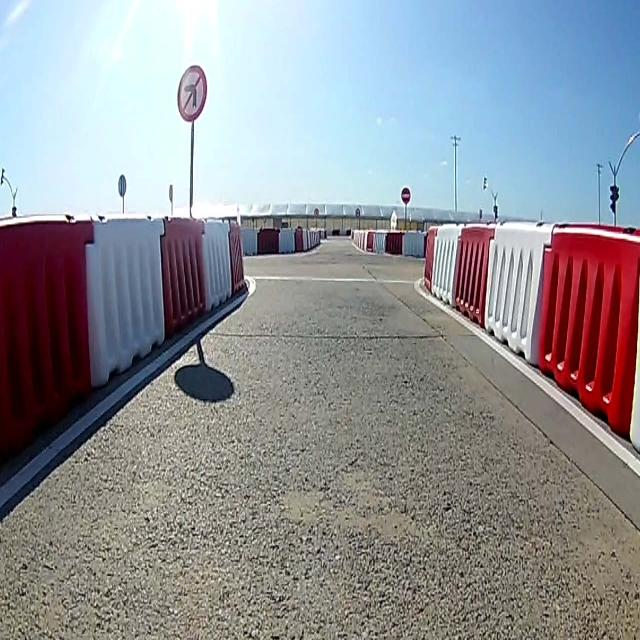girisyok: (401, 182, 412, 206)
soladonulmez: (180, 65, 207, 123)
